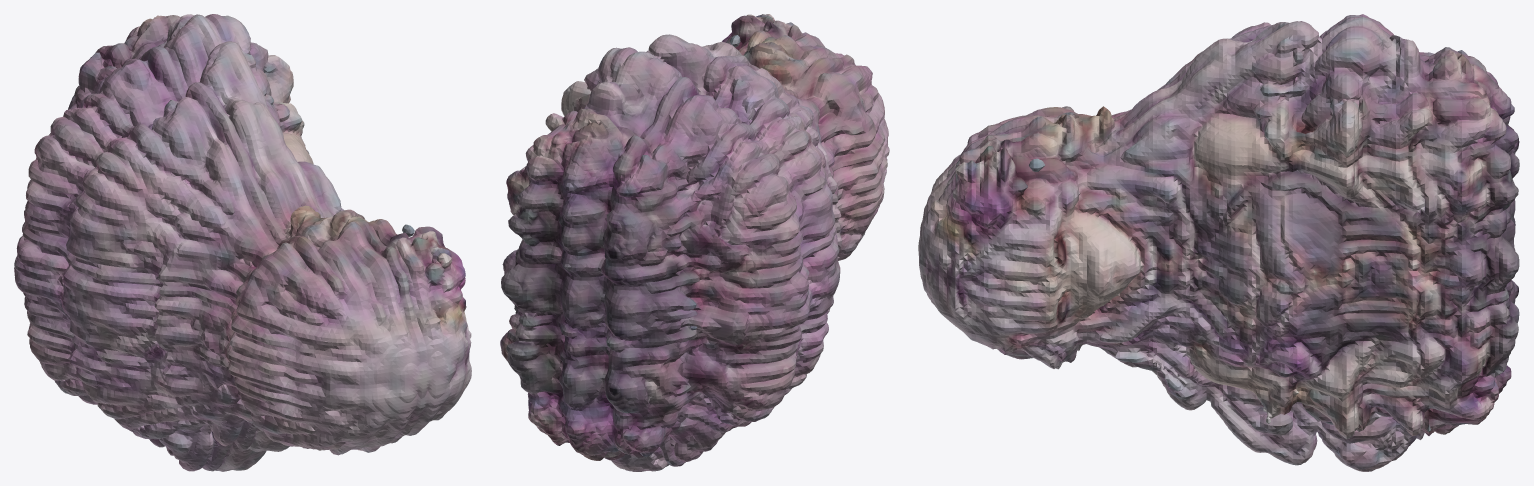
3 renders of one model, left to right at view 1: azimuth 30°, elevation 25°; view 2: azimuth 150°, elevation 25°; view 3: azimuth 270°, elevation 25°, orthographic. The views are drawn at different scales.
Visible parts, largest first — view 1: world; view 2: world; view 3: world.
Boxes of the visible parts, box(x1,y1,x2,y2) form: world: box(14, 14, 471, 471); world: box(500, 14, 889, 471); world: box(918, 14, 1519, 471).
Bounding box in the file's own units: 0.5602 × 0.8268 × 0.9959.
